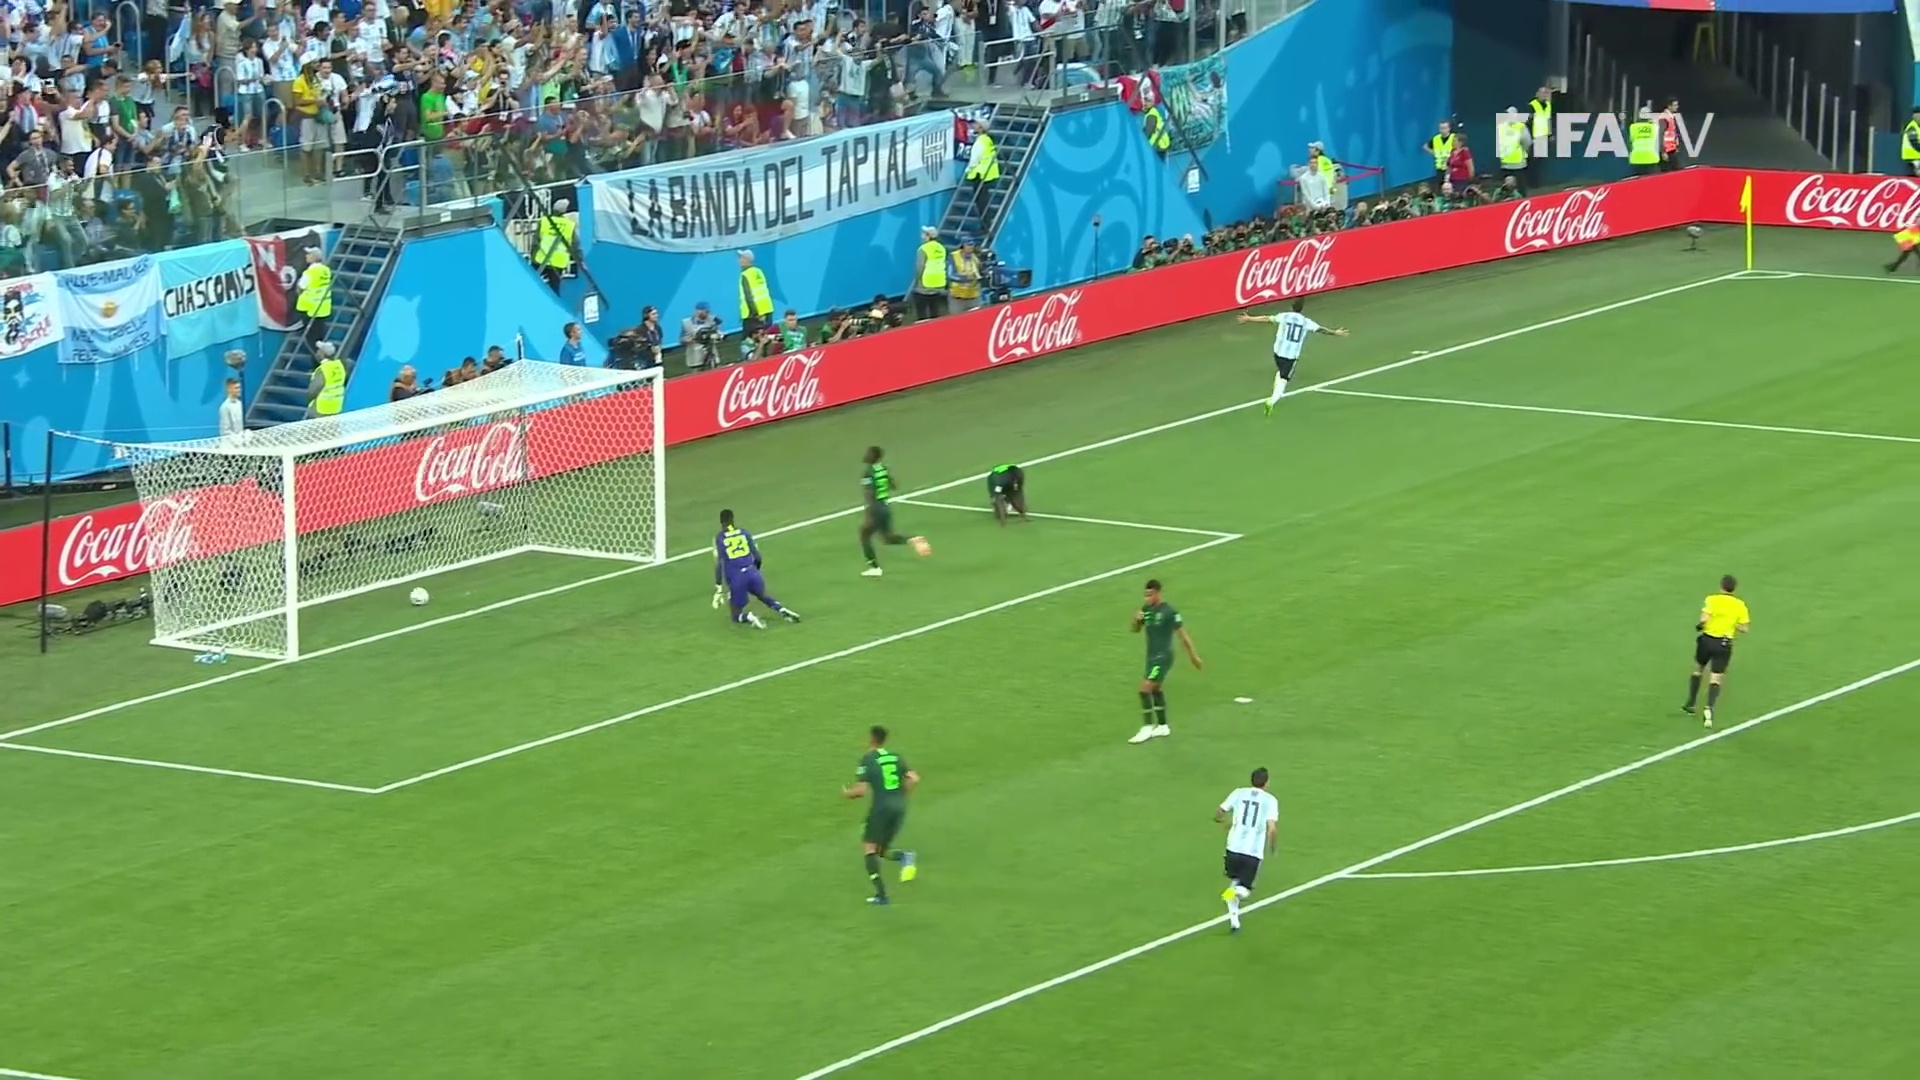ball: (411, 589, 426, 606)
person: (843, 724, 919, 906), (1238, 300, 1348, 412), (1134, 580, 1200, 743), (1216, 767, 1278, 931), (716, 509, 799, 628), (861, 445, 927, 572), (988, 463, 1032, 524)
